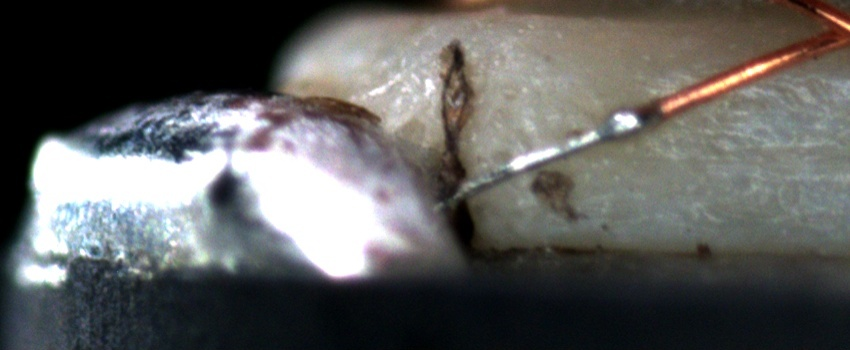CL: (795, 6, 850, 59)
DL: (620, 127, 850, 191), (601, 62, 850, 105)
TB: (603, 107, 649, 143)
TS: (449, 110, 643, 199)
TTCW: (429, 81, 711, 211)
